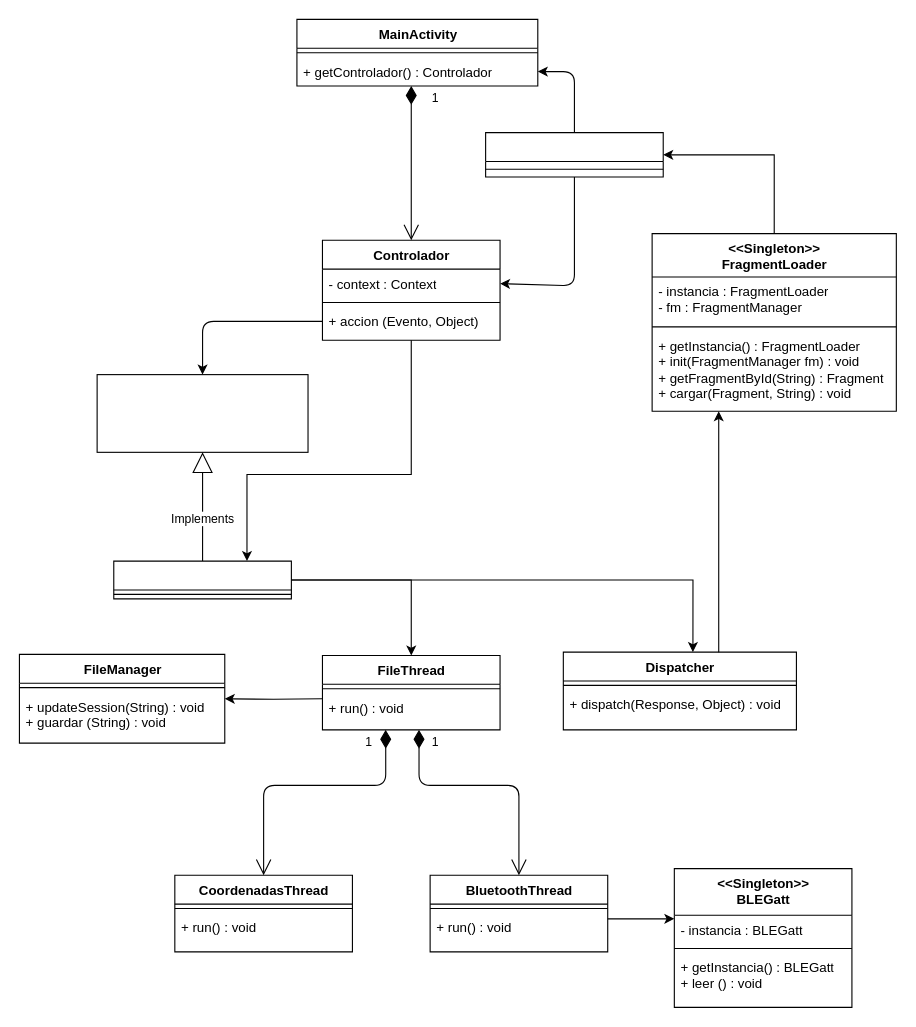
This 916x1027 diagram has some shape labels left out. The centre of each missing label's shape, as x and y in pixels:
<<Interface>> Comando + ejecutar (Context, Object): [202,413]
ComandoEmpezarSesion: [202,579]
PrincipalFragment: [574,154]
